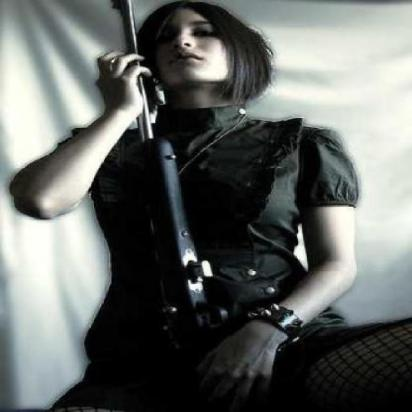Gun: (103, 0, 249, 400)
